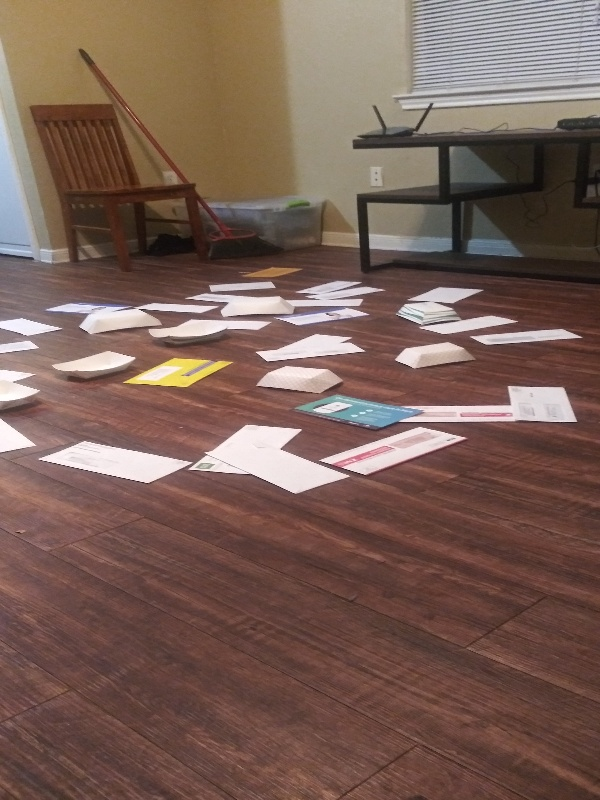plate: (51, 346, 142, 389), (252, 363, 348, 397), (77, 308, 166, 340), (392, 340, 481, 372), (146, 318, 233, 346), (219, 295, 297, 322), (393, 298, 463, 328), (1, 373, 42, 416)
